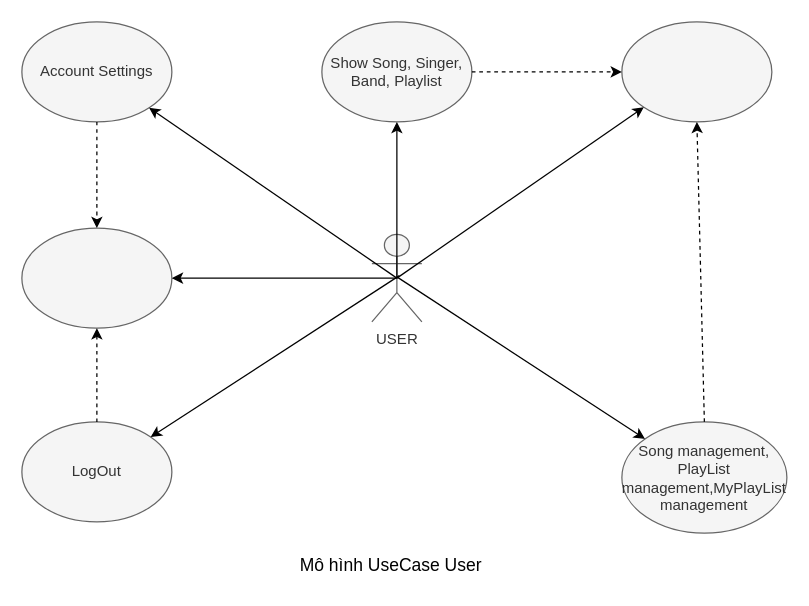
This 809x606 diagram has some shape labels left out. Each missing label, with the centre of its shape:
"Detail Song" belongs at point (696, 71).
"Login" belongs at point (96, 277).
